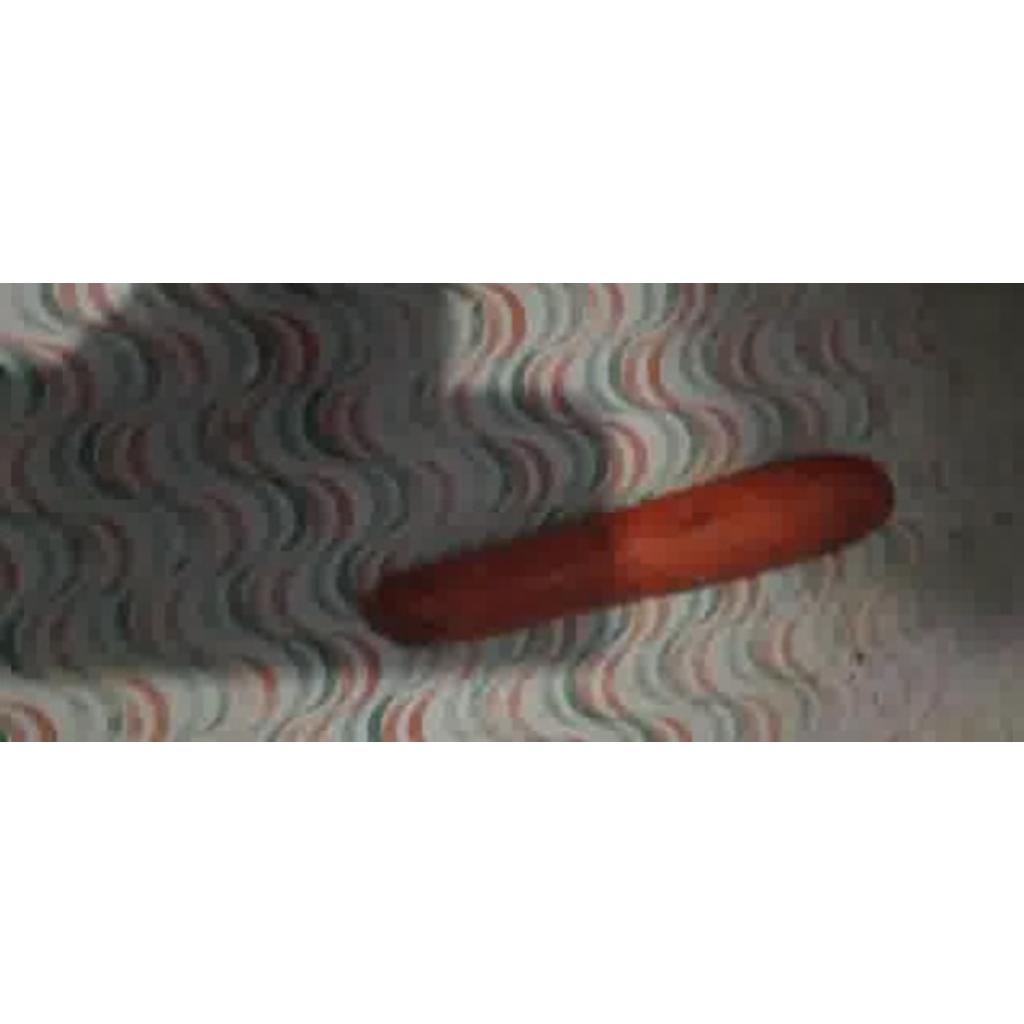carrot: (360, 458, 892, 642)
